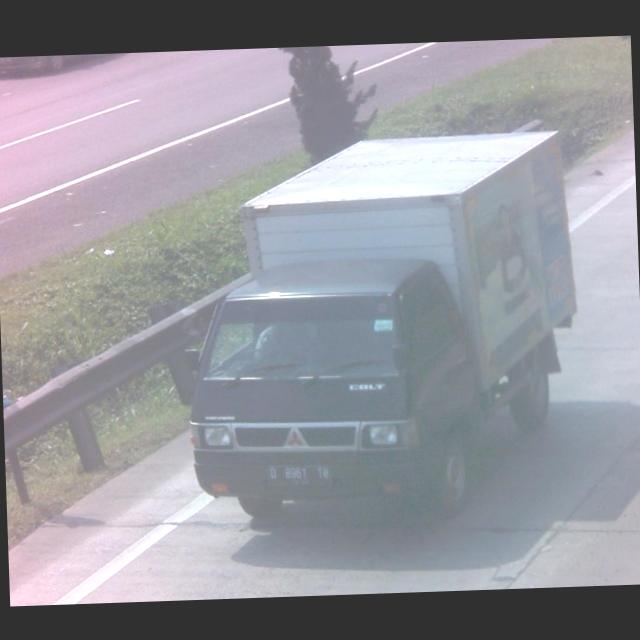plate: (264, 460, 331, 488)
